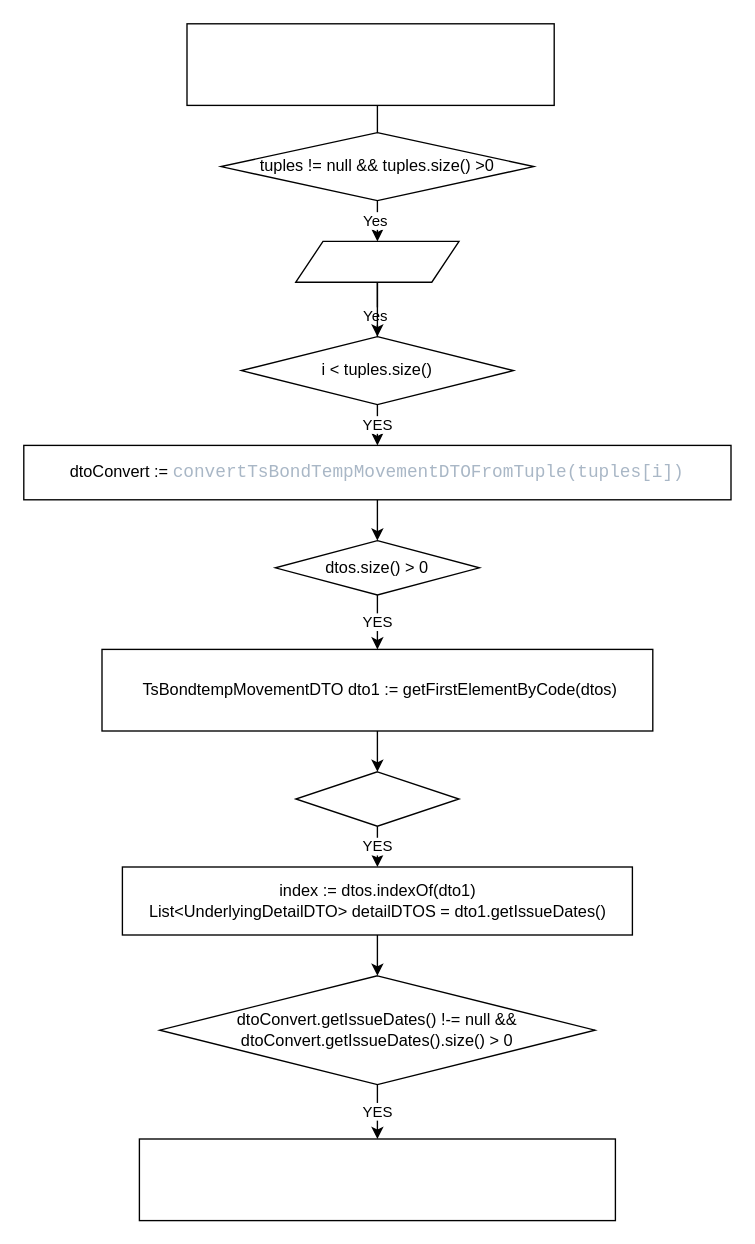
Image size: 755x1244. Some labels were removed from this diagram. Here are the shapes that lost their labels. From the top down, the centre of each, then its label:
pixel 370 63: List<Tuple> tuples new List<TsBondtempMovementDTO> dtos
pixel 376 261: i := 0; i++
pixel 376 798: dto1 != null
pixel 376 1179: underlyingDetailDTO = getFirstElementByIssueDateId(detailDTOS)
